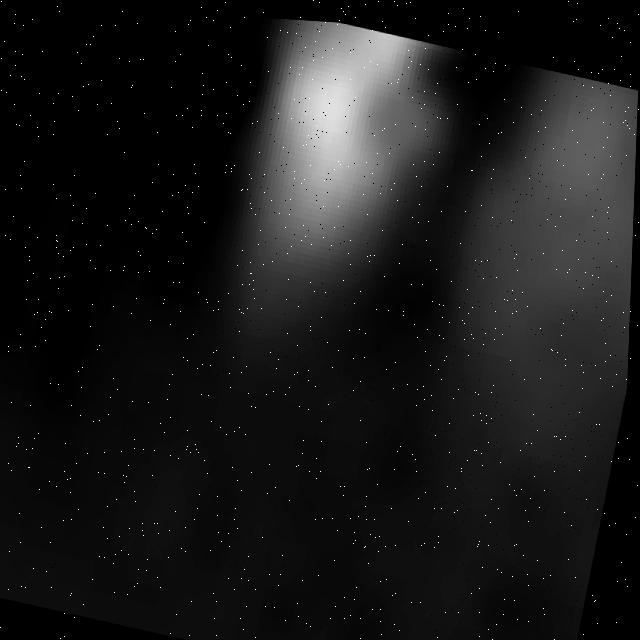person: (406, 46, 640, 540), (204, 12, 460, 365)
